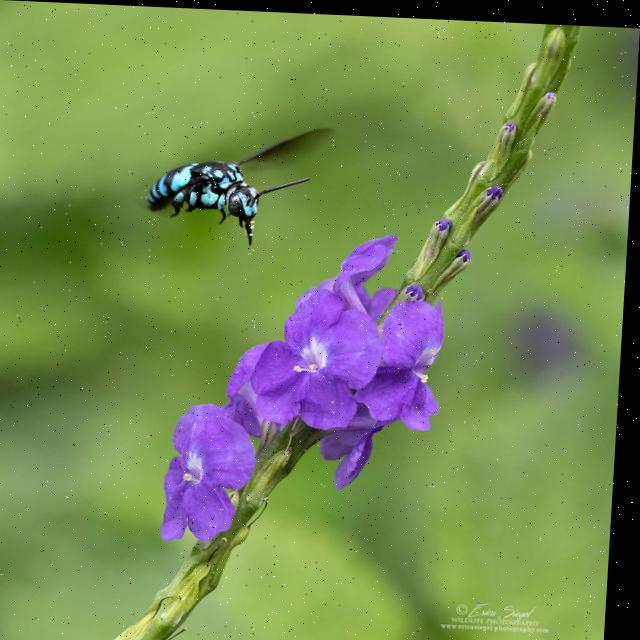Thyreus: (124, 107, 347, 256)
